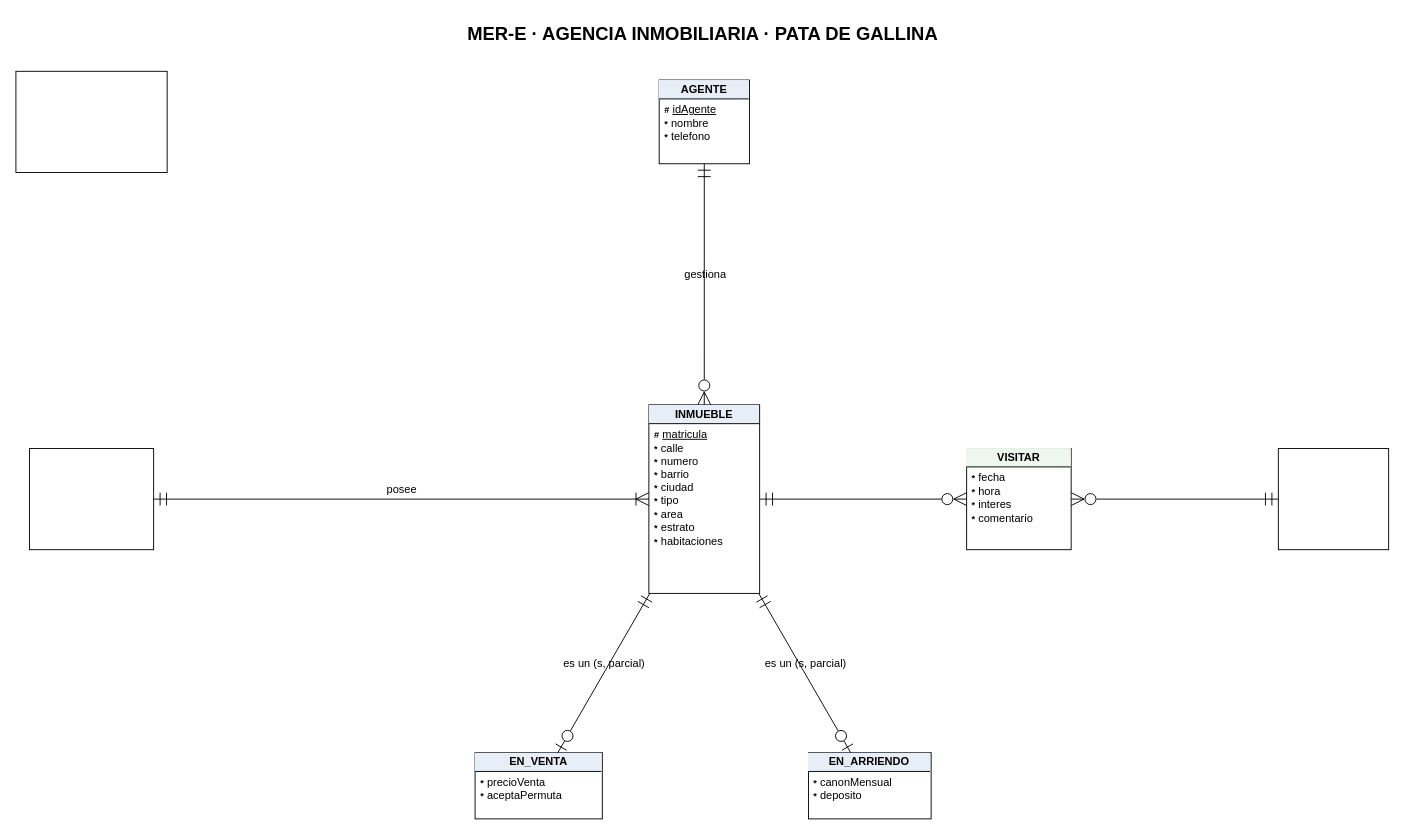
Some shapes in this 1406 by 835 pixel diagram are drawn without their labels. The centre of each missing label's shape, as x and y in pixels:
CLIENTE # documento * nombre * telefono * presupuesto: (x=1333, y=499)
PROPIETARIO # documento * nombre * correo { } telefono: (x=91, y=499)
RANGO_COMISION # idRango * valorMin * valorMax * porcentaje: (x=91, y=121)
